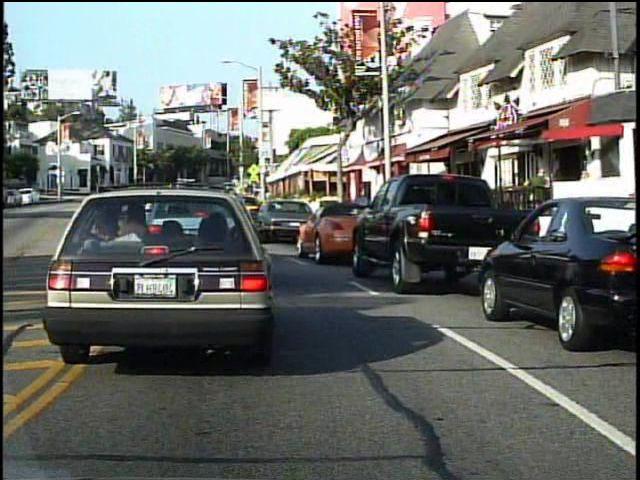person: (526, 162, 554, 229)
